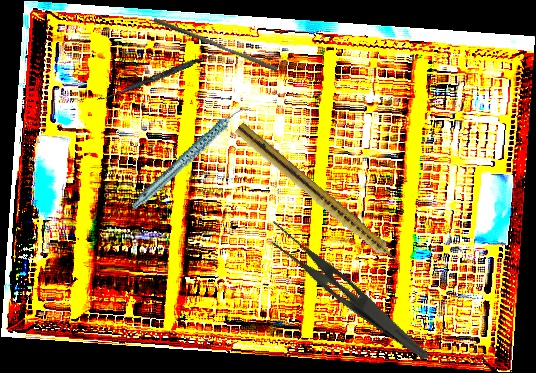Dressing Forceps: (256, 217, 444, 363)
Handpiece: (231, 121, 410, 276), (116, 104, 265, 210)
Pusher: (151, 17, 280, 73)
Spatula Surgical: (96, 47, 221, 106)
